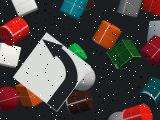Left: (13, 32, 91, 112)
